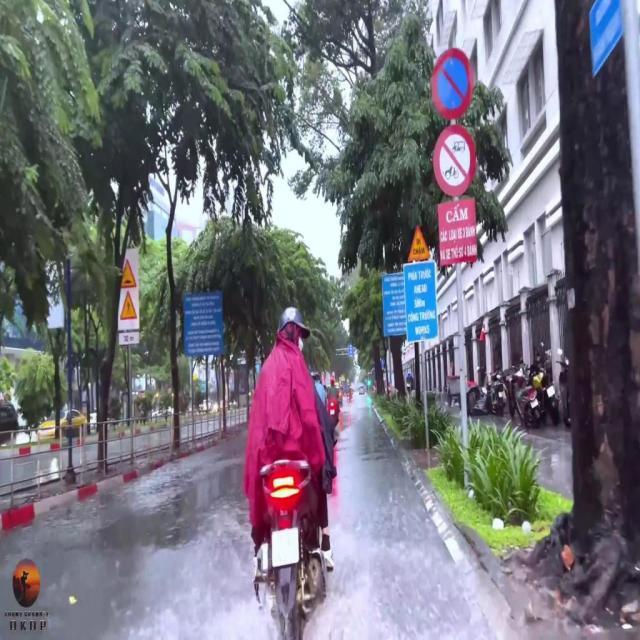131a-cam-do-xe: (432, 46, 474, 118)
221-duong-go-ghe: (119, 260, 137, 288)
224-duong-nguoi-di-bo-cat-ngang: (119, 291, 137, 321)
245-di-cham: (408, 225, 432, 263)
